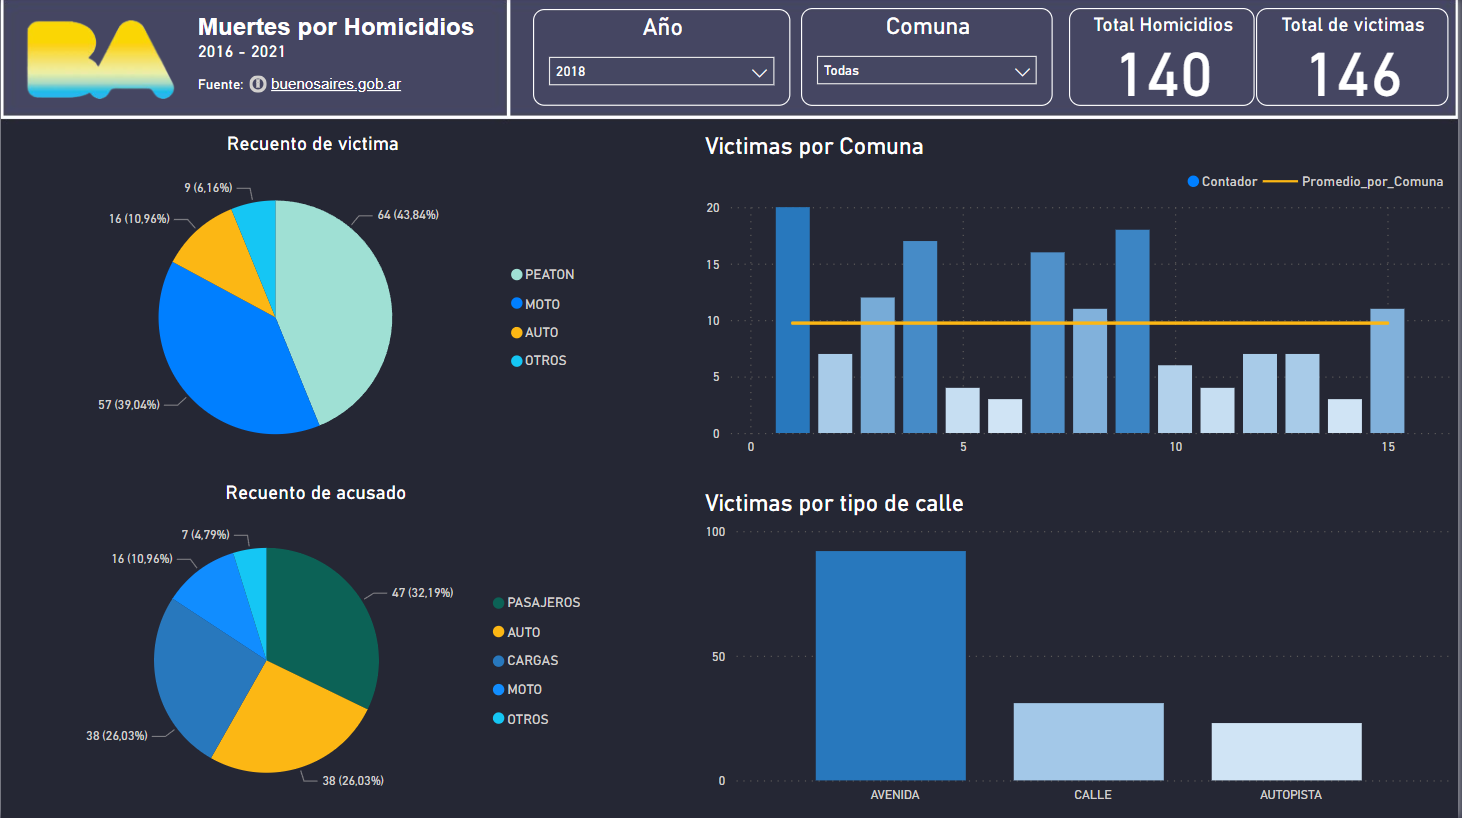

Layout of this report page (visuals, bound fields, positions):
{"tool":"powerbi","page":{"name":"Victima-Acusado","canvas":[1280,720],"ordinal":3},"visuals":[{"type":"pieChart","title":"Recuento de victima","fields":{"Category":["homicidios.victima_resumida"],"Y":["homicidios.Contador"]},"box":[29.9,117.7,488.2,306.4],"z":0},{"type":"slicer","title":"Tipo de Calle","fields":{"Values":["homicidios.tipo_calle"]},"box":[467.1,9.7,225.7,85.2],"z":1000},{"type":"columnChart","title":"Victimas por Comuna","fields":{"Category":["homicidios.comuna"],"Y":["homicidios.Contador"]},"box":[609.4,117.7,667.3,306.4],"z":2000},{"type":"columnChart","title":"Victimas por tipo de calle","fields":{"Category":["homicidios.tipo_calle"],"Y":["CountNonNull(homicidios.tipo_calle)"]},"box":[612.9,431.1,663.8,281.9],"z":3000},{"type":"pieChart","title":"Recuento de acusado","fields":{"Y":["homicidios.Contador"],"Category":["homicidios.acusado_resumida"]},"box":[29.9,424.1,493.5,295.9],"z":4000},{"type":"textbox","box":[167.7,8.8,265.2,89.6],"z":5000},{"type":"image","box":[17.6,9.7,140.5,88.7],"z":6000},{"type":"actionButton","box":[214.2,64.1,150.1,22.8],"z":7000},{"type":"slicer","title":"Comuna","fields":{"Values":["homicidios.comuna"]},"box":[702.4,8.8,221.3,86],"z":8000},{"type":"card","title":"Total de victimas","fields":{"Values":["homicidios.Contador"]},"box":[1102,8.8,168.6,86],"z":9000},{"type":"card","title":"Total Homicidios","fields":{"Values":["Count(homicidios.ID)"]},"box":[937.8,8.8,163.3,86],"z":10000}]}

Visuals, with their boxes in screenshot pixels (x1, y1, x2, y2), scaled from the page's 1280x720 canvas onto the 1462x818 screenshot:
"Recuento de victima" pieChart: x1=34, y1=134, x2=592, y2=482
"Tipo de Calle" slicer: x1=534, y1=11, x2=791, y2=108
"Victimas por Comuna" columnChart: x1=696, y1=134, x2=1458, y2=482
"Victimas por tipo de calle" columnChart: x1=700, y1=490, x2=1458, y2=810
"Recuento de acusado" pieChart: x1=34, y1=482, x2=598, y2=817
textbox: x1=192, y1=10, x2=494, y2=112
image: x1=20, y1=11, x2=181, y2=112
actionButton: x1=245, y1=73, x2=416, y2=99
"Comuna" slicer: x1=802, y1=10, x2=1055, y2=108
"Total de victimas" card: x1=1259, y1=10, x2=1451, y2=108
"Total Homicidios" card: x1=1071, y1=10, x2=1258, y2=108
